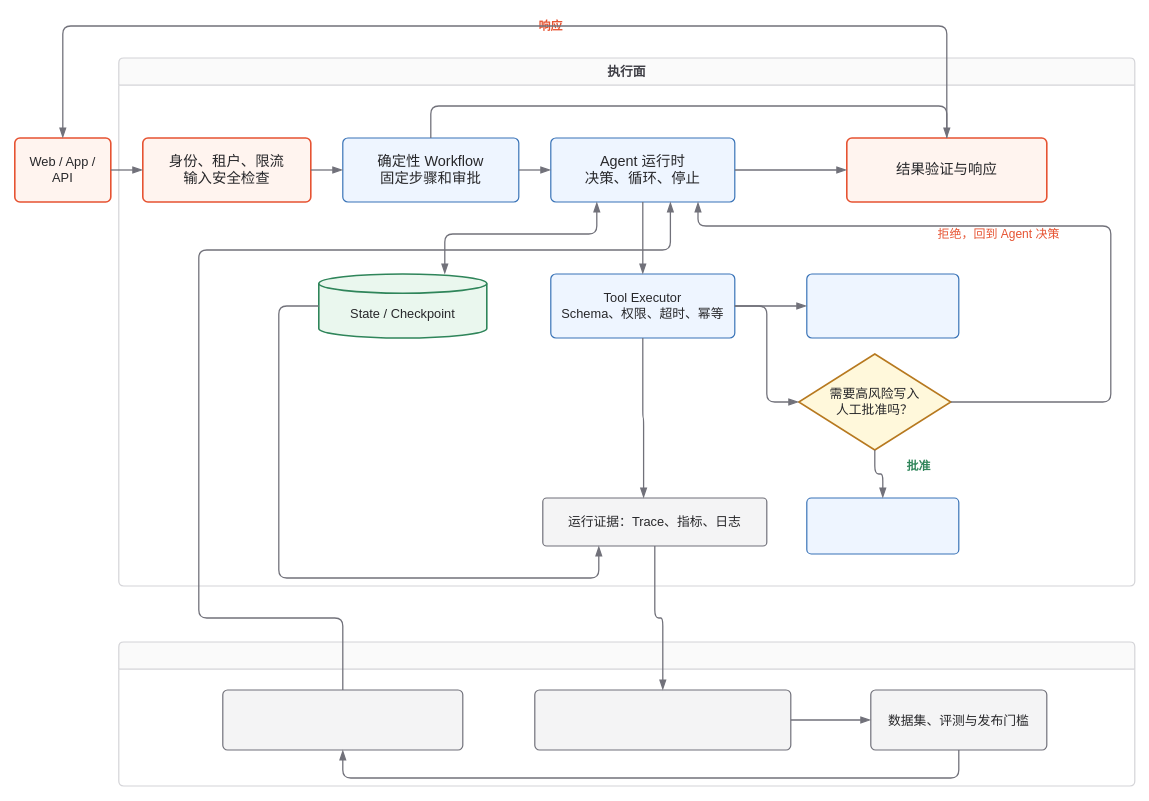
The diagram is 1149 pixels wide and 801 high, and some of its shapes have lost their labels. The shapes that lost their labels are listed below. From the top down, each one's box as (x1, y1, x2, y2) in pixels, then its label:
(806, 273, 959, 338): 只读系统
(806, 497, 959, 554): 会改数据的系统
(222, 689, 463, 750): Prompt / Tool / Policy 版本
(118, 641, 1135, 786): 控制面
(534, 689, 791, 750): Trace、指标、日志、告警
